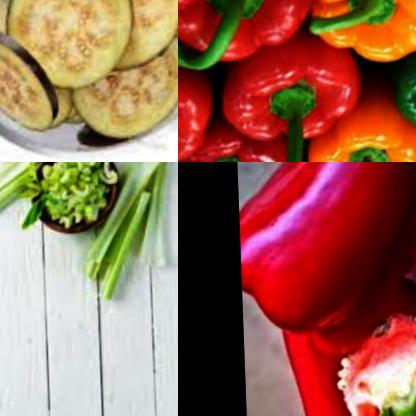bell pepper: (234, 162, 416, 340), (271, 217, 416, 416), (215, 32, 366, 158), (301, 64, 416, 162), (178, 0, 313, 78), (303, 0, 416, 79), (178, 126, 298, 162), (178, 64, 219, 162)
celery: (77, 162, 176, 315), (0, 162, 114, 229), (24, 162, 114, 234)
eggplant: (0, 0, 178, 162)
